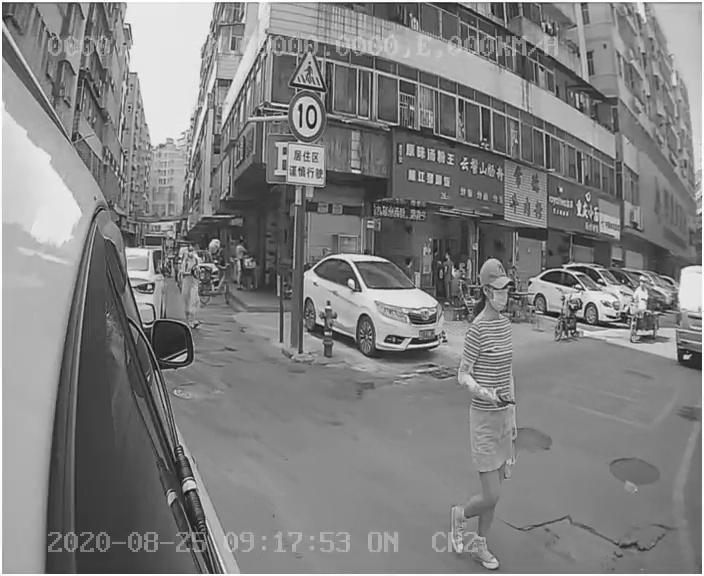person: (439, 256, 546, 570)
